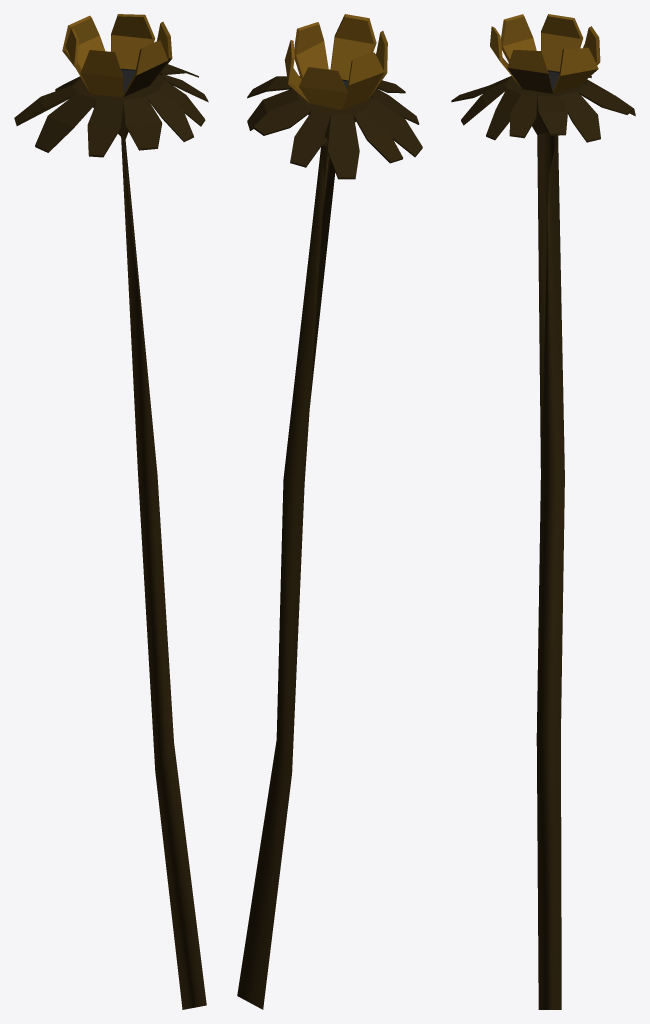
File: flowererantis01.fbx
3 renders of one model, left to right at view 1: azimuth 30°, elevation 25°; view 2: azimuth 150°, elevation 25°; view 3: azimuth 270°, elevation 25°, orthographic. The views are drawn at different scales.
Visible parts, largest first — view 1: Cylinder.009; view 2: Cylinder.009; view 3: Cylinder.009.
Boxes of the visible parts, bbox=[...] form: Cylinder.009: bbox=[14, 14, 208, 1009]; Cylinder.009: bbox=[237, 14, 422, 1009]; Cylinder.009: bbox=[451, 14, 635, 1009].
Size of the model in its own units: 0.0526 by 0.2844 by 0.05.
